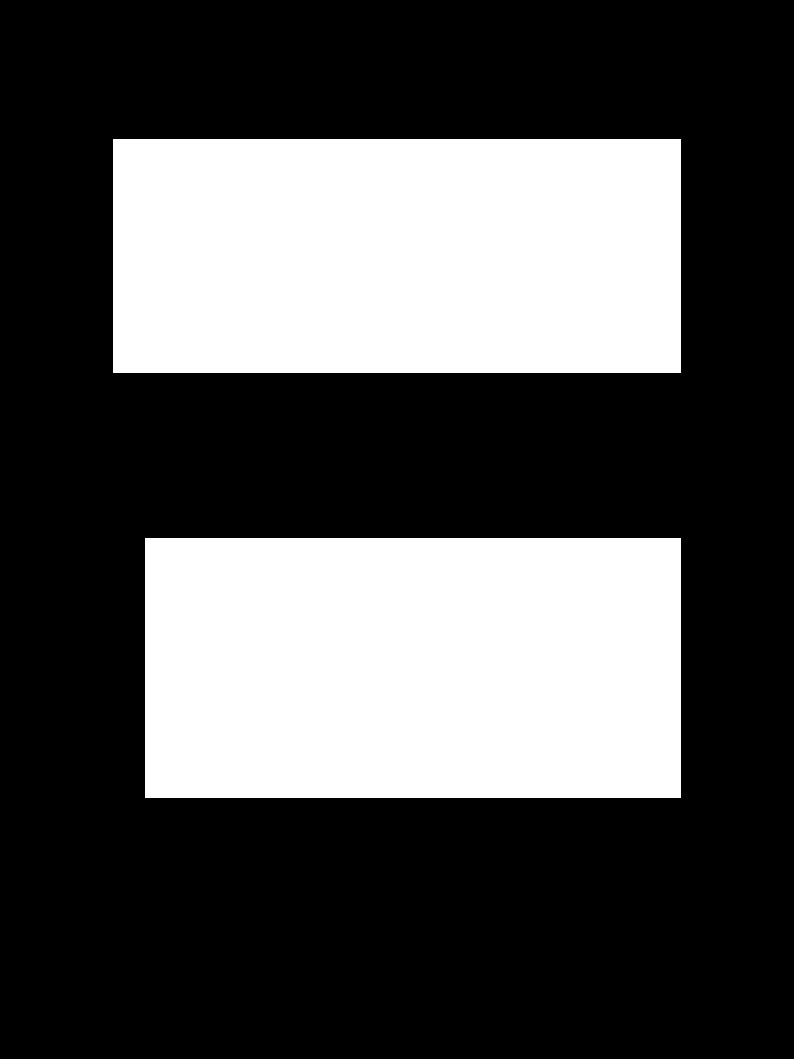table: (145, 538, 680, 797), (113, 139, 680, 372)
